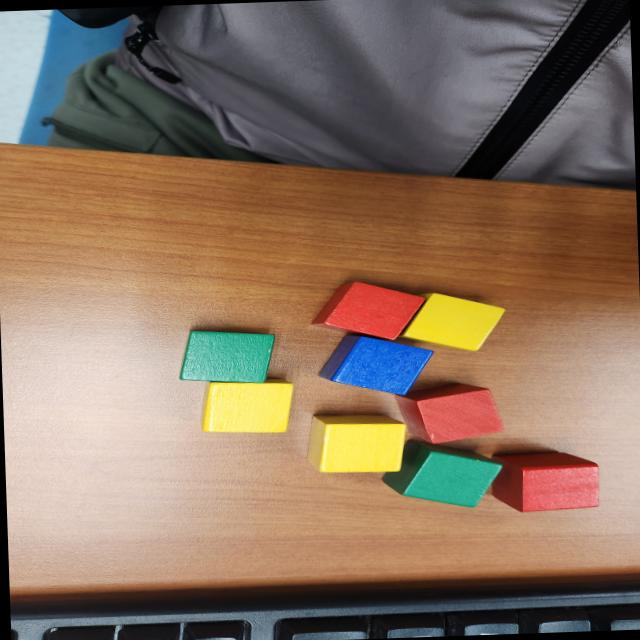blue: (316, 331, 436, 398)
green: (380, 436, 504, 511), (176, 326, 280, 386)
red: (310, 277, 428, 343), (394, 380, 507, 446), (488, 449, 602, 514)
yellow: (398, 290, 509, 356), (310, 411, 408, 475), (200, 378, 298, 437)
